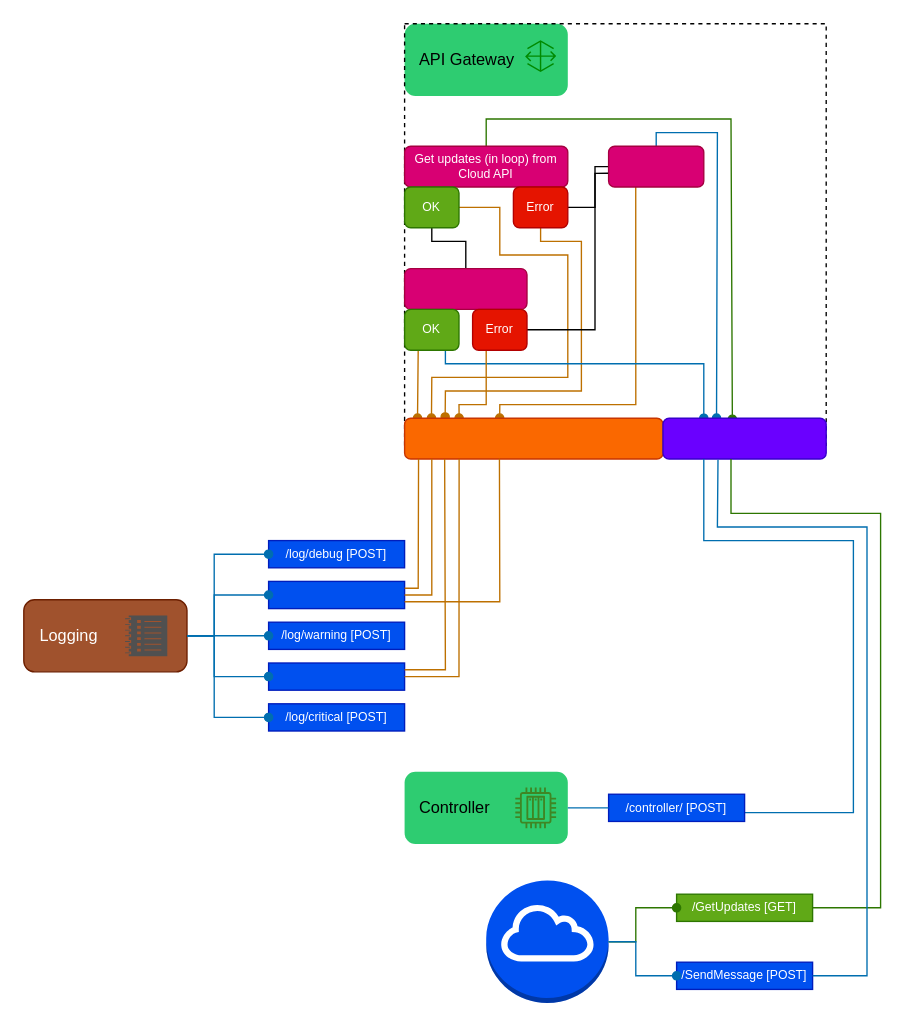
This 906x1027 diagram has some shape labels left out. The shapes that lost their labels are listed below. From the top down, each one's centre as x and y in pixels, then its label:
At [655,166]: "Error Containment".
At [465,288]: "Sent to Controller".
At [533,438]: "Log Client".
At [744,438]: "API Client".
At [336,594]: "/log/info [POST]".
At [336,676]: "/log/error [POST]".
